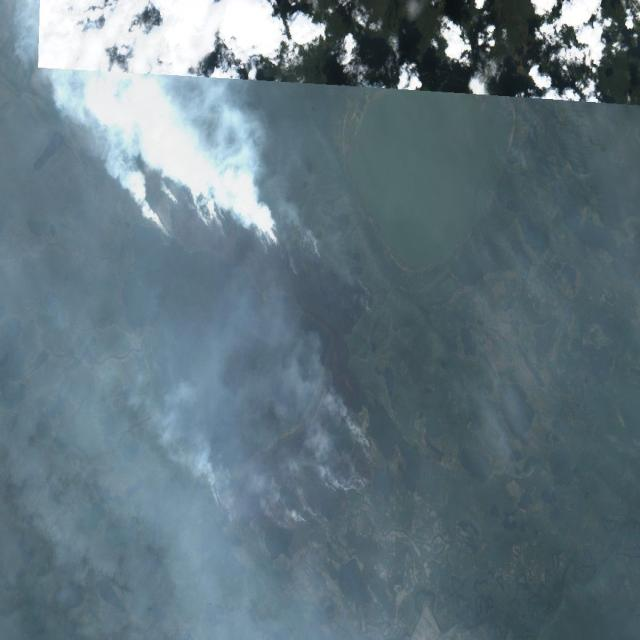fire: (118, 156, 332, 288), (201, 396, 379, 542)
